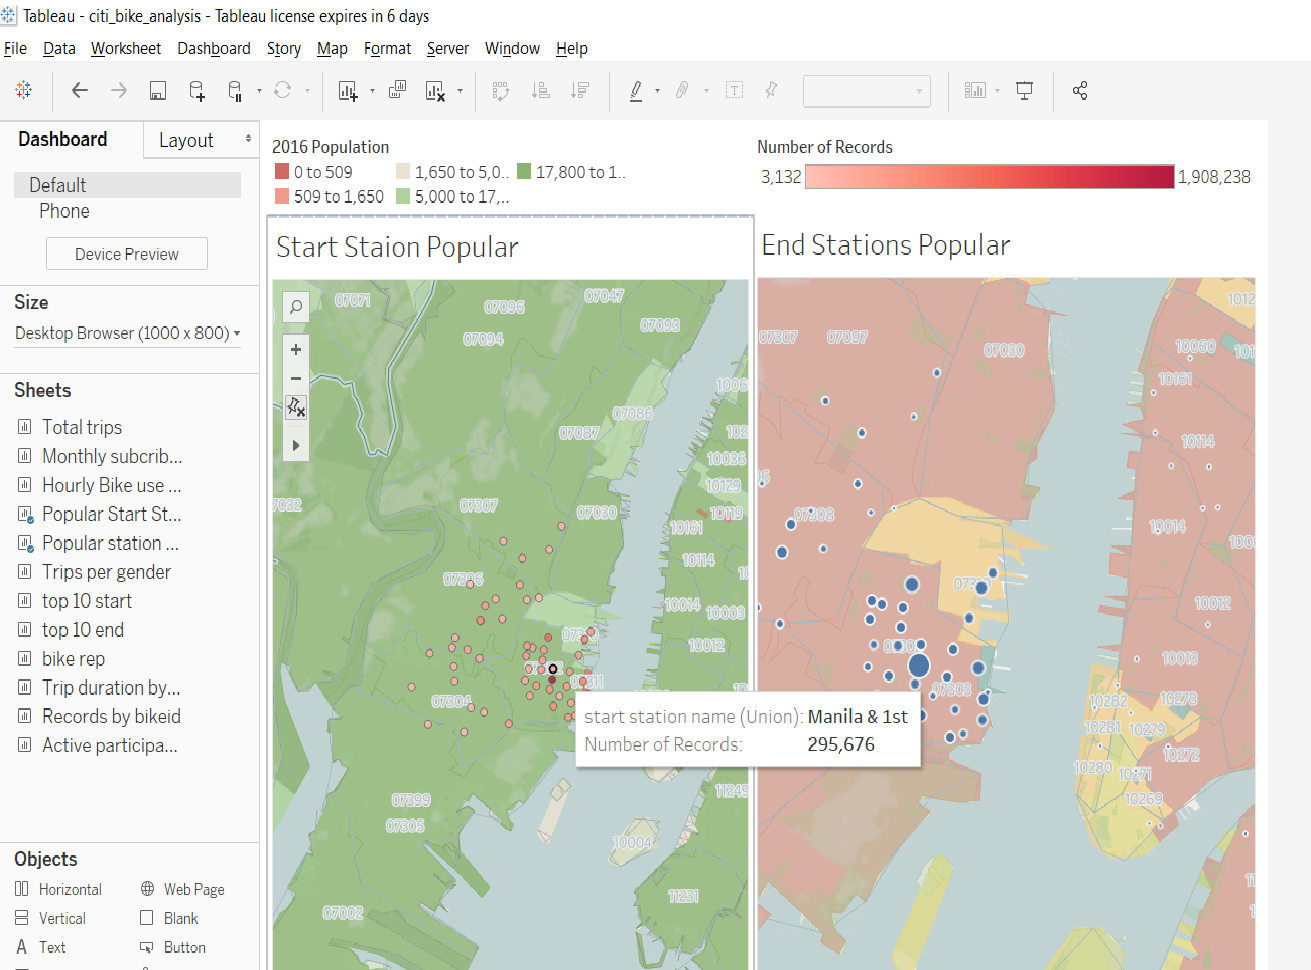

The dashboard page shown, as its layout file describes it:
{"tool":"tableau","page":{"name":"maps","canvas":[1000,800],"ordinal":3},"visuals":[{"type":"legend","title":"Popular Start Stations with Zip-code overlay","box":[8,8,481,75]},{"type":"legend","title":"Popular Start Stations with Zip-code overlay","param":"[federated.0bjqk4u1wdq1g41czazz71danlju].[sum:Number of Records:qk]","box":[489,8,503,73]},{"type":"worksheet","title":"Popular station end stations by Zipcode overlay","mark":"Automatic","rows":["end station latitude (Union)"],"cols":["end station longitude (Union)"],"box":[489,81,503,711]},{"type":"worksheet","title":"Popular Start Stations with Zip-code overlay","mark":"Multipolygon","rows":["start station latitude (Union)"],"cols":["start station longitude (Union)"],"box":[8,83,481,709]}]}

Visuals, with their boxes on the page's 1000x800 design canvas (x1, y1, x2, y2). These are canvas units, not pixel positions in the 1311x970 screenshot, which may show the page scaled, cropped or inside an application window:
"Popular Start Stations with Zip-code overlay" legend: <region>8, 8, 489, 83</region>
"Popular Start Stations with Zip-code overlay" legend: <region>489, 8, 992, 81</region>
"Popular station end stations by Zipcode overlay" worksheet: <region>489, 81, 992, 792</region>
"Popular Start Stations with Zip-code overlay" worksheet (Multipolygon marks): <region>8, 83, 489, 792</region>
